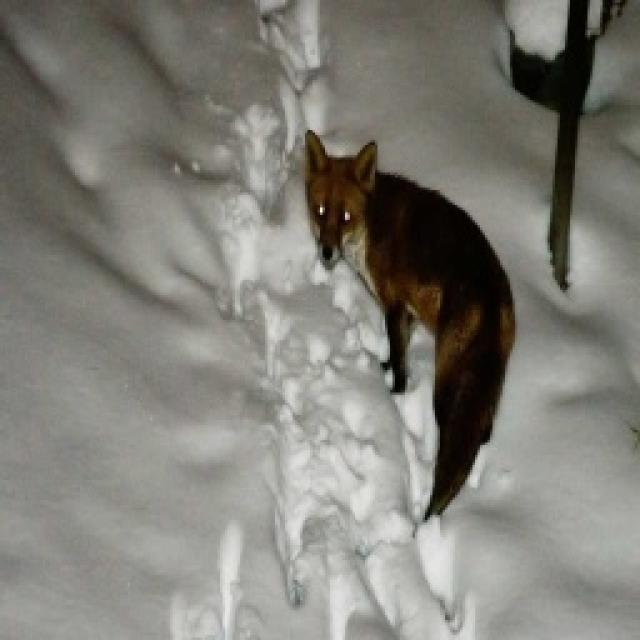Fox: (299, 122, 521, 534)
